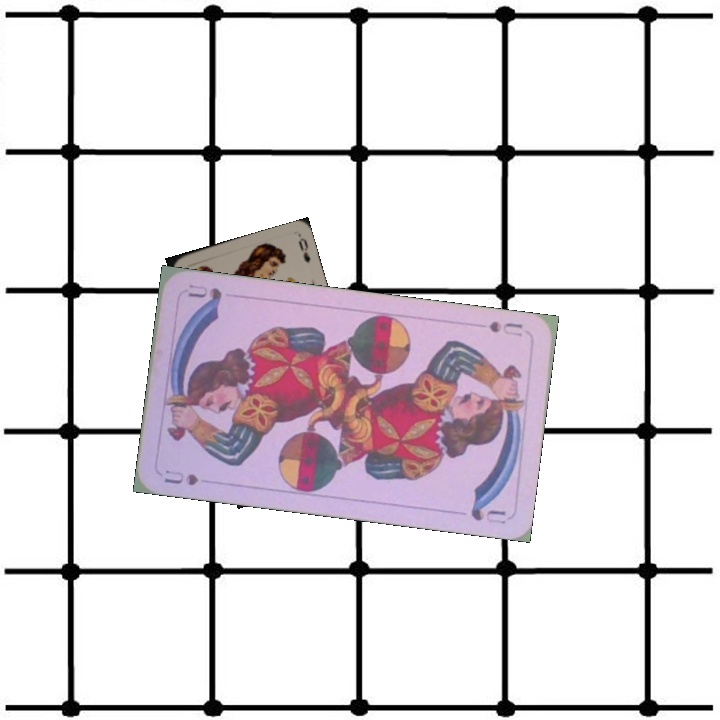SU: (160, 466, 201, 488), (485, 317, 525, 339)
